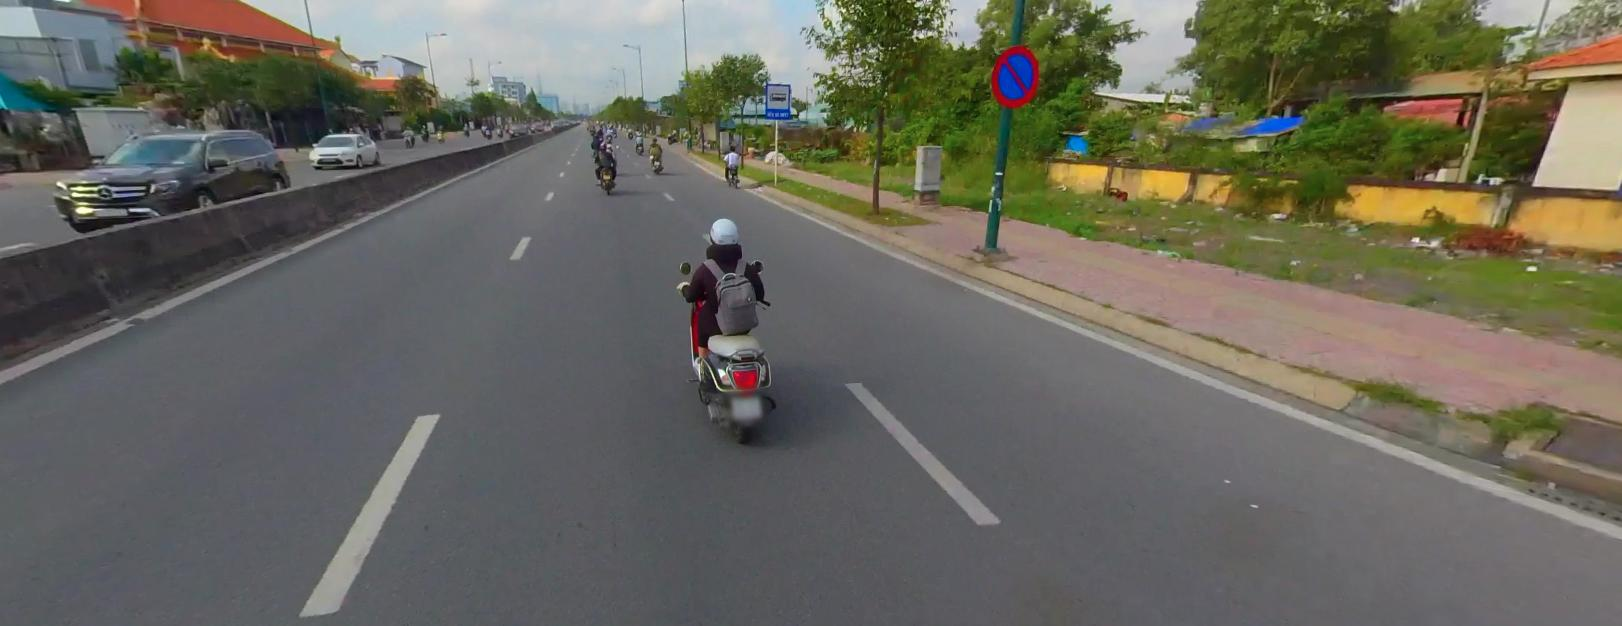Cam dung va do: (990, 42, 1040, 105)
